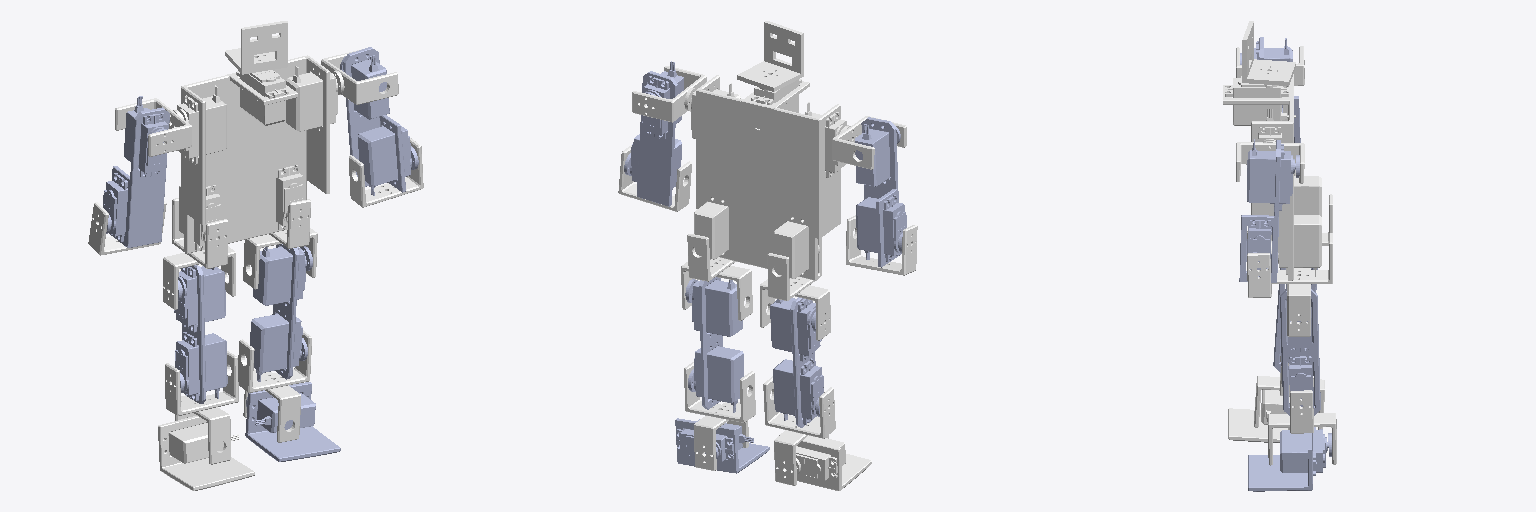
--- Facts derived from the render (not from the file) ---
3 views of the same robot in one strip: view 1: azimuth 30°, elevation 25°; view 2: azimuth 150°, elevation 25°; view 3: azimuth 270°, elevation 25° (orthographic).
Model test_robot_urdf with 16 links and 15 joints (15 revolute), rooted at base_link, posed all joints at 0.
Visible links, largest first — view 1: base_link, RHumerus, LFemur, RFemur, LHumerus, RFoot, LFoot, RTibia, RLeg, LTibia, LLeg, face (+4 smaller); view 2: base_link, LFemur, RHumerus, RFemur, LHumerus, LTibia, RTibia, RFoot, RLeg, face, LFoot, LLeg (+4 smaller); view 3: base_link, LHumerus, LFoot, LFemur, LLeg, LTibia, RFoot, face, LForearm, LShoulder, RHumerus, RTibia (+1 smaller).
Link boxes in pixels (x1,y1,x2,y2): base_link: (173, 55, 344, 253); RHumerus: (103, 96, 169, 247); LFemur: (250, 244, 312, 381); RFemur: (174, 265, 227, 403); LHumerus: (340, 47, 418, 195); RFoot: (158, 416, 254, 490); LFoot: (245, 382, 340, 461); RTibia: (165, 351, 238, 464); RLeg: (163, 198, 235, 309); LTibia: (238, 330, 311, 442); LLeg: (243, 199, 317, 289); face: (225, 21, 287, 74); base_link: (684, 75, 850, 280); LFemur: (685, 277, 743, 412); RHumerus: (855, 117, 906, 267); RFemur: (770, 297, 823, 427); LHumerus: (624, 61, 683, 206); LTibia: (684, 362, 755, 470); RTibia: (763, 376, 835, 485); RFoot: (780, 433, 871, 490); RLeg: (760, 238, 830, 340); face: (737, 21, 803, 91); LFoot: (675, 418, 769, 473); LLeg: (681, 234, 752, 320); base_link: (1223, 74, 1321, 280); LHumerus: (1239, 139, 1299, 282); LFoot: (1248, 427, 1331, 491); LFemur: (1280, 289, 1320, 415); LLeg: (1271, 233, 1332, 336); LTibia: (1268, 378, 1336, 465); RFoot: (1228, 390, 1289, 442); face: (1242, 21, 1295, 85); LForearm: (1247, 231, 1271, 297); LShoulder: (1236, 142, 1304, 183); RHumerus: (1240, 37, 1300, 142); RTibia: (1254, 356, 1324, 429).
Bounding box of the posed robot: 0.2903 × 0.0967 × 0.4005 m (x, y, z).
16 mesh visuals loaded from 16 distinct referenced files (16 binary STL).

The robot description file, URDF, robot "test_robot_urdf":
<?xml version="1.0" encoding="utf-8" ?>
<!-- This URDF was automatically created by SolidWorks to URDF Exporter! Originally created by Stephen Brawner ([email redacted]) 
     Commit Version: 1.6.0-4-g7f85cfe  Build Version: 1.6.7995.38578
     For more information, please see http://wiki.ros.org/sw_urdf_exporter -->
<robot name="test_robot_urdf">
    <!-- <link name="world"/> 
    <joint name="base_joint" type="fixed">
      <parent link="world"/>
      <child link="base_link"/>
      <origin rpy="0 0 0" xyz="0.0 0.0 0.17"/>
  </joint>-->
    <link name="base_link">
        <inertial>
            <origin xyz="0.025554 -0.085 0" rpy="0 0 0" />
            <mass value="0.24982" />
            <inertia ixx="0.0001974" ixy="-1.6155E-07" ixz="-3.8594E-08" iyy="0.00017956" iyz="-7.4527E-06" izz="0.00032713" />
        </inertial>
        <visual>
            <origin xyz="0 0 0" rpy="0 0 0" />
            <geometry>
                <mesh filename="package://test_robot_urdf/meshes/base_link.STL" />
            </geometry>
            <material name="">
                <color rgba="1 1 1 1" />
            </material>
        </visual>
        <collision>
            <origin xyz="0 0 0" rpy="0 0 0" />
            <geometry>
                <mesh filename="package://test_robot_urdf/meshes/base_link.STL" />
            </geometry>
        </collision>
    </link>
    <link name="RShoulder">
        <inertial>
            <origin xyz="0.012477 0.0006161 -2.7756E-17" rpy="0 0 0" />
            <mass value="0.0097066" />
            <inertia ixx="5.4145E-06" ixy="-8.0868E-08" ixz="-2.1383E-22" iyy="1.8341E-06" iyz="-2.9845E-21" izz="6.6057E-06" />
        </inertial>
        <visual>
            <origin xyz="0 0 0" rpy="0 0 0" />
            <geometry>
                <mesh filename="package://test_robot_urdf/meshes/RShoulder.STL" />
            </geometry>
            <material name="">
                <color rgba="1 1 1 1" />
            </material>
        </visual>
        <collision>
            <origin xyz="0 0 0" rpy="0 0 0" />
            <geometry>
                <mesh filename="package://test_robot_urdf/meshes/RShoulder.STL" />
            </geometry>
        </collision>
    </link>
    <joint name="RShoulder_pitch" type="revolute">
        <origin xyz="-0.050786 -0.11873 0.095526" rpy="-0.0292 0 3.1416" />
        <parent link="base_link" />
        <child link="RShoulder" />
        <axis xyz="-1 0 0" />
        <limit lower="-3.142" upper="0" effort="0.3" velocity="3" />
    </joint>
    <link name="RHumerus">
        <inertial>
            <origin xyz="-0.042934 0.0021494 0.0038885" rpy="0 0 0" />
            <mass value="0.079003" />
            <inertia ixx="1.2241E-05" ixy="8.9775E-07" ixz="6.8935E-07" iyy="3.0897E-05" iyz="-6.311E-07" izz="3.0365E-05" />
        </inertial>
        <visual>
            <origin xyz="0 0 0" rpy="0 0 0" />
            <geometry>
                <mesh filename="package://test_robot_urdf/meshes/RHumerus.STL" />
            </geometry>
            <material name="">
                <color rgba="0.79216 0.81961 0.93333 1" />
            </material>
        </visual>
        <collision>
            <origin xyz="0 0 0" rpy="0 0 0" />
            <geometry>
                <mesh filename="package://test_robot_urdf/meshes/RHumerus.STL" />
            </geometry>
        </collision>
    </link>
    <joint name="RShoulder_roll" type="revolute">
        <origin xyz="0.026 0 0" rpy="0 -1.5173 -3.1416" />
        <parent link="RShoulder" />
        <child link="RHumerus" />
        <axis xyz="0 1 0" />
        <limit lower="0" upper="3.142" effort="0.3" velocity="3" />
    </joint>
    <link name="RForearm">
        <inertial>
            <origin xyz="-0.013523 0.0080161 1.3878E-17" rpy="0 0 0" />
            <mass value="0.0097066" />
            <inertia ixx="5.4145E-06" ixy="-8.0868E-08" ixz="-6.8821E-22" iyy="1.8341E-06" iyz="-1.6436E-21" izz="6.6057E-06" />
        </inertial>
        <visual>
            <origin xyz="0 0 0" rpy="0 0 0" />
            <geometry>
                <mesh filename="package://test_robot_urdf/meshes/RForearm.STL" />
            </geometry>
            <material name="">
                <color rgba="1 1 1 1" />
            </material>
        </visual>
        <collision>
            <origin xyz="0 0 0" rpy="0 0 0" />
            <geometry>
                <mesh filename="package://test_robot_urdf/meshes/RForearm.STL" />
            </geometry>
        </collision>
    </link>
    <joint name="RElbow_pitch" type="revolute">
        <origin xyz="-0.0805 0.0074 0" rpy="1.5708 0 -0.11963" />
        <parent link="RHumerus" />
        <child link="RForearm" />
        <axis xyz="0 -1 0" />
        <limit lower="-3.142" upper="0" effort="0.3" velocity="3" />
    </joint>
    <link name="face">
        <inertial>
            <origin xyz="-1.3878E-17 0.011149 0.0078728" rpy="0 0 0" />
            <mass value="0.01138" />
            <inertia ixx="3.562E-06" ixy="-1.9058E-21" ixz="4.2352E-22" iyy="3.3882E-06" iyz="-1.0545E-06" izz="3.3852E-06" />
        </inertial>
        <visual>
            <origin xyz="0 0 0" rpy="0 0 0" />
            <geometry>
                <mesh filename="package://test_robot_urdf/meshes/face.STL" />
            </geometry>
            <material name="">
                <color rgba="1 1 1 1" />
            </material>
        </visual>
        <collision>
            <origin xyz="0 0 0" rpy="0 0 0" />
            <geometry>
                <mesh filename="package://test_robot_urdf/meshes/face.STL" />
            </geometry>
        </collision>
    </link>
    <joint name="Neck_yaw" type="revolute">
        <origin xyz="0.025114 -0.11948 0.13268" rpy="1.5708 0 -0.15619" />
        <parent link="base_link" />
        <child link="face" />
        <axis xyz="0 -1 0" />
        <limit lower="-1.57" upper="1.57" effort="0.3" velocity="3" />
    </joint>
    <link name="RLeg">
        <inertial>
            <origin xyz="0.026 0.00030805 -0.029308" rpy="0 0 0" />
            <mass value="0.019413" />
            <inertia ixx="1.0829E-05" ixy="-8.0868E-08" ixz="-8.0868E-08" iyy="8.4399E-06" iyz="2.0532E-20" izz="8.4399E-06" />
        </inertial>
        <visual>
            <origin xyz="0 0 0" rpy="0 0 0" />
            <geometry>
                <mesh filename="package://test_robot_urdf/meshes/RLeg.STL" />
            </geometry>
            <material name="">
                <color rgba="1 1 1 1" />
            </material>
        </visual>
        <collision>
            <origin xyz="0 0 0" rpy="0 0 0" />
            <geometry>
                <mesh filename="package://test_robot_urdf/meshes/RLeg.STL" />
            </geometry>
        </collision>
    </link>
    <joint name="RHip_roll" type="revolute">
        <origin xyz="-0.012886 -0.065133 -0.014974" rpy="1.5708 1.5593 -3.1416" />
        <parent link="base_link" />
        <child link="RLeg" />
        <axis xyz="0 0 1" />
        <limit lower="-1.57" upper="1.57" effort="0.3" velocity="3" />
    </joint>
    <link name="RFemur">
        <inertial>
            <origin xyz="-0.040258 -0.0014239 4.9602E-07" rpy="0 0 0" />
            <mass value="0.07163" />
            <inertia ixx="1.0418E-05" ixy="1.048E-09" ixz="-3.3333E-10" iyy="2.1292E-05" iyz="8.3321E-14" izz="2.5799E-05" />
        </inertial>
        <visual>
            <origin xyz="0 0 0" rpy="0 0 0" />
            <geometry>
                <mesh filename="package://test_robot_urdf/meshes/RFemur.STL" />
            </geometry>
            <material name="">
                <color rgba="0.79216 0.81961 0.93333 1" />
            </material>
        </visual>
        <collision>
            <origin xyz="0 0 0" rpy="0 0 0" />
            <geometry>
                <mesh filename="package://test_robot_urdf/meshes/RFemur.STL" />
            </geometry>
        </collision>
    </link>
    <joint name="RHip_pitch" type="revolute">
        <origin xyz="0.052 0 -0.029" rpy="0 -0.06306 -3.1416" />
        <parent link="RLeg" />
        <child link="RFemur" />
        <axis xyz="0 1 0" />
        <limit lower="-1.57" upper="1.57" effort="0.3" velocity="3" />
    </joint>
    <link name="RTibia">
        <inertial>
            <origin xyz="0.026 0.00030805 -0.00030805" rpy="0 0 0" />
            <mass value="0.019413" />
            <inertia ixx="1.0829E-05" ixy="-8.0868E-08" ixz="-8.0868E-08" iyy="8.4399E-06" iyz="3.1126E-20" izz="8.4399E-06" />
        </inertial>
        <visual>
            <origin xyz="0 0 0" rpy="0 0 0" />
            <geometry>
                <mesh filename="package://test_robot_urdf/meshes/RTibia.STL" />
            </geometry>
            <material name="">
                <color rgba="1 1 1 1" />
            </material>
        </visual>
        <collision>
            <origin xyz="0 0 0" rpy="0 0 0" />
            <geometry>
                <mesh filename="package://test_robot_urdf/meshes/RTibia.STL" />
            </geometry>
        </collision>
    </link>
    <joint name="RKnee_pitch" type="revolute">
        <origin xyz="-0.0805 0 0" rpy="1.5708 0.0012554 3.1416" />
        <parent link="RFemur" />
        <child link="RTibia" />
        <axis xyz="0 0 1" />
        <limit lower="-1.57" upper="1.57" effort="0.3" velocity="3" />
    </joint>
    <link name="RFoot">
        <inertial>
            <origin xyz="-0.02 0 0.025" rpy="0 0 0" />
            <mass value="0.057003" />
            <inertia ixx="1.4126E-05" ixy="2.2875E-10" ixz="-1.3786E-09" iyy="2.1635E-05" iyz="2.0514E-06" izz="1.4608E-05" />
        </inertial>
        <visual>
            <origin xyz="-0.018 -0.023 0.05" rpy="0 0 0" />
            <geometry>
                <mesh filename="package://test_robot_urdf/meshes/RFoot.STL" />
            </geometry>
            <material name="">
                <color rgba="1 1 1 1" />
            </material>
        </visual>
        <collision>
            <origin xyz="-0.018 -0.023 0.05" rpy="0 0 0" />
            <geometry>
                <mesh filename="package://test_robot_urdf/meshes/RFoot.STL" />
            </geometry>
        </collision>
    </link>
    <joint name="RAnkle_roll" type="revolute">
        <origin xyz="0.051814 0.027316 0.0079945" rpy="-1.5708 -1.5466 -3.1416" />
        <parent link="RTibia" />
        <child link="RFoot" />
        <axis xyz="0 0 1" />
        <limit lower="-1.57" upper="1.57" effort="0.3" velocity="3" />
    </joint>
    <link name="LLeg">
        <inertial>
            <origin xyz="-0.026 0.029308 0.00030805" rpy="0 0 0" />
            <mass value="0.019413" />
            <inertia ixx="1.0829E-05" ixy="-8.0868E-08" ixz="8.0868E-08" iyy="8.4399E-06" iyz="-2.2077E-19" izz="8.4399E-06" />
        </inertial>
        <visual>
            <origin xyz="0 0 0" rpy="0 0 0" />
            <geometry>
                <mesh filename="package://test_robot_urdf/meshes/LLeg.STL" />
            </geometry>
            <material name="">
                <color rgba="1 1 1 1" />
            </material>
        </visual>
        <collision>
            <origin xyz="0 0 0" rpy="0 0 0" />
            <geometry>
                <mesh filename="package://test_robot_urdf/meshes/LLeg.STL" />
            </geometry>
        </collision>
    </link>
    <joint name="LHip_roll" type="revolute">
        <origin xyz="0.064114 -0.065133 -0.014974" rpy="3.1416 -1.5267 0" />
        <parent link="base_link" />
        <child link="LLeg" />
        <axis xyz="0 -1 0" />
        <limit lower="-1.57" upper="1.57" effort="0.3" velocity="3" />
    </joint>
    <link name="LFemur">
        <inertial>
            <origin xyz="-0.040258 -0.0014244 -4.9602E-07" rpy="0 0 0" />
            <mass value="0.07163" />
            <inertia ixx="1.0418E-05" ixy="-1.048E-09" ixz="3.1543E-10" iyy="2.1292E-05" iyz="8.2662E-14" izz="2.5799E-05" />
        </inertial>
        <visual>
            <origin xyz="0 0 0" rpy="0 0 0" />
            <geometry>
                <mesh filename="package://test_robot_urdf/meshes/LFemur.STL" />
            </geometry>
            <material name="">
                <color rgba="0.79216 0.81961 0.93333 1" />
            </material>
        </visual>
        <collision>
            <origin xyz="0 0 0" rpy="0 0 0" />
            <geometry>
                <mesh filename="package://test_robot_urdf/meshes/LFemur.STL" />
            </geometry>
        </collision>
    </link>
    <joint name="LHip_pitch" type="revolute">
        <origin xyz="-0.052 0.029 0" rpy="-1.5708 0 0.025794" />
        <parent link="LLeg" />
        <child link="LFemur" />
        <axis xyz="0 1 0" />
        <limit lower="-1.57" upper="1.57" effort="0.3" velocity="3" />
    </joint>
    <link name="LTibia">
        <inertial>
            <origin xyz="-0.026 0.00030805 0.00030805" rpy="0 0 0" />
            <mass value="0.019413" />
            <inertia ixx="1.0829E-05" ixy="-8.0868E-08" ixz="8.0868E-08" iyy="8.4399E-06" iyz="7.8434E-20" izz="8.4399E-06" />
        </inertial>
        <visual>
            <origin xyz="0 0 0" rpy="0 0 0" />
            <geometry>
                <mesh filename="package://test_robot_urdf/meshes/LTibia.STL" />
            </geometry>
            <material name="">
                <color rgba="1 1 1 1" />
            </material>
        </visual>
        <collision>
            <origin xyz="0 0 0" rpy="0 0 0" />
            <geometry>
                <mesh filename="package://test_robot_urdf/meshes/LTibia.STL" />
            </geometry>
        </collision>
    </link>
    <joint name="LKnee_pitch" type="revolute">
        <origin xyz="-0.0805 0 0" rpy="3.1416 0.0099355 0" />
        <parent link="LFemur" />
        <child link="LTibia" />
        <axis xyz="0 -1 0" />
        <limit lower="-1.57" upper="1.57" effort="0.3" velocity="3" />
    </joint>
    <link name="LFoot">
        <inertial>
            <origin xyz="-0.0099432 0.0056689 -0.0077894" rpy="0 0 0" />
            <mass value="0.057003" />
            <inertia ixx="1.4126E-05" ixy="-1.1299E-09" ixz="-2.2731E-10" iyy="1.4608E-05" iyz="2.0509E-06" izz="2.1635E-05" />
        </inertial>
        <visual>
            <origin xyz="0 0 0" rpy="0 0 0" />
            <geometry>
                <mesh filename="package://test_robot_urdf/meshes/LFoot.STL" />
            </geometry>
            <material name="">
                <color rgba="0.79216 0.81961 0.93333 1" />
            </material>
        </visual>
        <collision>
            <origin xyz="0 0 0" rpy="0 0 0" />
            <geometry>
                <mesh filename="package://test_robot_urdf/meshes/LFoot.STL" />
            </geometry>
        </collision>
    </link>
    <joint name="LAnkle_roll" type="revolute">
        <origin xyz="-0.052 0 0" rpy="-1.5708 0 -1.5471" />
        <parent link="LTibia" />
        <child link="LFoot" />
        <axis xyz="0 1 0" />
        <limit lower="-1.57" upper="1.57" effort="0.3" velocity="3" />
    </joint>
    <link name="LShoulder">
        <inertial>
            <origin xyz="0.012477 0.0006161 0" rpy="0 0 0" />
            <mass value="0.0097066" />
            <inertia ixx="5.4145E-06" ixy="-8.0868E-08" ixz="2.9572E-22" iyy="1.8341E-06" iyz="7.8417E-22" izz="6.6057E-06" />
        </inertial>
        <visual>
            <origin xyz="0 0 0" rpy="0 0 0" />
            <geometry>
                <mesh filename="package://test_robot_urdf/meshes/LShoulder.STL" />
            </geometry>
            <material name="">
                <color rgba="1 1 1 1" />
            </material>
        </visual>
        <collision>
            <origin xyz="0 0 0" rpy="0 0 0" />
            <geometry>
                <mesh filename="package://test_robot_urdf/meshes/LShoulder.STL" />
            </geometry>
        </collision>
    </link>
    <joint name="LShoulder_pitch" type="revolute">
        <origin xyz="0.10201 -0.11873 0.095526" rpy="-0.026379 0 0" />
        <parent link="base_link" />
        <child link="LShoulder" />
        <axis xyz="-1 0 0" />
        <limit lower="0" upper="3.142" effort="0.3" velocity="3" />
    </joint>
    <link name="LHumerus">
        <inertial>
            <origin xyz="-0.042934 0.0021494 0.0038885" rpy="0 0 0" />
            <mass value="0.079003" />
            <inertia ixx="1.2241E-05" ixy="8.9775E-07" ixz="6.8935E-07" iyy="3.0897E-05" iyz="-6.311E-07" izz="3.0365E-05" />
        </inertial>
        <visual>
            <origin xyz="0 0 0" rpy="0 0 0" />
            <geometry>
                <mesh filename="package://test_robot_urdf/meshes/LHumerus.STL" />
            </geometry>
            <material name="">
                <color rgba="0.79216 0.81961 0.93333 1" />
            </material>
        </visual>
        <collision>
            <origin xyz="0 0 0" rpy="0 0 0" />
            <geometry>
                <mesh filename="package://test_robot_urdf/meshes/LHumerus.STL" />
            </geometry>
        </collision>
    </link>
    <joint name="LShoulder_roll" type="revolute">
        <origin xyz="0.026 0 0" rpy="0 -1.5034 3.1416" />
        <parent link="LShoulder" />
        <child link="LHumerus" />
        <axis xyz="0 1 0" />
        <limit lower="0" upper="3.142" effort="0.3" velocity="3" />
    </joint>
    <link name="LForearm">
        <inertial>
            <origin xyz="-0.013523 0.0080161 -2.7756E-17" rpy="0 0 0" />
            <mass value="0.0097066" />
            <inertia ixx="5.4145E-06" ixy="-8.0868E-08" ixz="-1.3367E-21" iyy="1.8341E-06" iyz="4.6301E-21" izz="6.6057E-06" />
        </inertial>
        <visual>
            <origin xyz="0 0 0" rpy="0 0 0" />
            <geometry>
                <mesh filename="package://test_robot_urdf/meshes/LForearm.STL" />
            </geometry>
            <material name="">
                <color rgba="1 1 1 1" />
            </material>
        </visual>
        <collision>
            <origin xyz="0 0 0" rpy="0 0 0" />
            <geometry>
                <mesh filename="package://test_robot_urdf/meshes/LForearm.STL" />
            </geometry>
        </collision>
    </link>
    <joint name="LElbow_pitch" type="revolute">
        <origin xyz="-0.0805 0.0074 0" rpy="1.5708 0 0.052842" />
        <parent link="LHumerus" />
        <child link="LForearm" />
        <axis xyz="0 -1 0" />
        <limit lower="0" upper="3.142" effort="0.3" velocity="3" />
    </joint>
    <!-- 
  Adding actuators for every joint
   Replace the “link_n” part with the name of child link of the joint and “joint_n” with the exact joint name for which you are writing this transmission tag. 
   The transmission and actuator names can be defined anything you want. 
   But the joint name must be the exact name of the joint.
  <transmission name="link_n_trans">
  <type>transmission_interface/SimpleTransmission</type>
  <joint name="joint_n">
  <hardwareInterface>hardware_interface/PositionJointInterface</hardwareInterface></joint>
  <actuator name="link_n_motor">
  <hardwareInterface>hardware_interface/PositionJointInterface</hardwareInterface> <mechanicalReduction>1</mechanicalReduction>
  </actuator>
  </transmission>
     -->
    <transmission name="RShoulder_trans">
        <type>transmission_interface/SimpleTransmission</type>
        <joint name="RShoulder_pitch">
            <hardwareInterface>hardware_interface/PositionJointInterface</hardwareInterface>
        </joint>
        <actuator name="RShoulder_pitch_motor">
            <hardwareInterface>hardware_interface/PositionJointInterface</hardwareInterface>
            <mechanicalReduction>1</mechanicalReduction>
        </actuator>
    </transmission>
    <transmission name="RHumerus_trans">
        <type>transmission_interface/SimpleTransmission</type>
        <joint name="RShoulder_roll">
            <hardwareInterface>hardware_interface/PositionJointInterface</hardwareInterface>
        </joint>
        <actuator name="RShoulder_roll_motor">
            <hardwareInterface>hardware_interface/PositionJointInterface</hardwareInterface>
            <mechanicalReduction>1</mechanicalReduction>
        </actuator>
    </transmission>
    <transmission name="RForearm_trans">
        <type>transmission_interface/SimpleTransmission</type>
        <joint name="RElbow_pitch">
            <hardwareInterface>hardware_interface/PositionJointInterface</hardwareInterface>
        </joint>
        <actuator name="RElbow_pitch_motor">
            <hardwareInterface>hardware_interface/PositionJointInterface</hardwareInterface>
            <mechanicalReduction>1</mechanicalReduction>
        </actuator>
    </transmission>
    <transmission name="face_trans">
        <type>transmission_interface/SimpleTransmission</type>
        <joint name="Neck_yaw">
            <hardwareInterface>hardware_interface/PositionJointInterface</hardwareInterface>
        </joint>
        <actuator name="Neck_yaw_motor">
            <hardwareInterface>hardware_interface/PositionJointInterface</hardwareInterface>
            <mechanicalReduction>1</mechanicalReduction>
        </actuator>
    </transmission>
    <transmission name="RLeg_trans">
        <type>transmission_interface/SimpleTransmission</type>
        <joint name="RHip_roll">
            <hardwareInterface>hardware_interface/PositionJointInterface</hardwareInterface>
        </joint>
        <actuator name="RHip_roll_motor">
            <hardwareInterface>hardware_interface/PositionJointInterface</hardwareInterface>
            <mechanicalReduction>1</mechanicalReduction>
        </actuator>
    </transmission>
    <transmission name="RFemur_trans">
        <type>transmission_interface/SimpleTransmission</type>
        <joint name="RHip_pitch">
            <hardwareInterface>hardware_interface/PositionJointInterface</hardwareInterface>
        </joint>
        <actuator name="RHip_pitch_motor">
            <hardwareInterface>hardware_interface/PositionJointInterface</hardwareInterface>
            <mechanicalReduction>1</mechanicalReduction>
        </actuator>
    </transmission>
    <transmission name="RTibia_trans">
        <type>transmission_interface/SimpleTransmission</type>
        <joint name="RKnee_pitch">
            <hardwareInterface>hardware_interface/PositionJointInterface</hardwareInterface>
        </joint>
        <actuator name="RKnee_pitch_motor">
            <hardwareInterface>hardware_interface/PositionJointInterface</hardwareInterface>
            <mechanicalReduction>1</mechanicalReduction>
        </actuator>
    </transmission>
    <transmission name="RFoot_trans">
        <type>transmission_interface/SimpleTransmission</type>
        <joint name="RAnkle_roll">
            <hardwareInterface>hardware_interface/PositionJointInterface</hardwareInterface>
        </joint>
        <actuator name="RAnkle_roll_motor">
            <hardwareInterface>hardware_interface/PositionJointInterface</hardwareInterface>
            <mechanicalReduction>1</mechanicalReduction>
        </actuator>
    </transmission>
    <transmission name="LLeg_trans">
        <type>transmission_interface/SimpleTransmission</type>
        <joint name="LHip_roll">
            <hardwareInterface>hardware_interface/PositionJointInterface</hardwareInterface>
        </joint>
        <actuator name="LHip_roll_motor">
            <hardwareInterface>hardware_interface/PositionJointInterface</hardwareInterface>
            <mechanicalReduction>1</mechanicalReduction>
        </actuator>
    </transmission>
    <transmission name="LFemur_trans">
        <type>transmission_interface/SimpleTransmission</type>
        <joint name="LHip_pitch">
            <hardwareInterface>hardware_interface/PositionJointInterface</hardwareInterface>
        </joint>
        <actuator name="LHip_pitch_motor">
            <hardwareInterface>hardware_interface/PositionJointInterface</hardwareInterface>
            <mechanicalReduction>1</mechanicalReduction>
        </actuator>
    </transmission>
    <transmission name="LTibia_trans">
        <type>transmission_interface/SimpleTransmission</type>
        <joint name="LKnee_pitch">
            <hardwareInterface>hardware_interface/PositionJointInterface</hardwareInterface>
        </joint>
        <actuator name="LKnee_pitch_motor">
            <hardwareInterface>hardware_interface/PositionJointInterface</hardwareInterface>
            <mechanicalReduction>1</mechanicalReduction>
        </actuator>
    </transmission>
    <transmission name="LFoot_trans">
        <type>transmission_interface/SimpleTransmission</type>
        <joint name="LAnkle_roll">
            <hardwareInterface>hardware_interface/PositionJointInterface</hardwareInterface>
        </joint>
        <actuator name="LAnkle_roll_motor">
            <hardwareInterface>hardware_interface/PositionJointInterface</hardwareInterface>
            <mechanicalReduction>1</mechanicalReduction>
        </actuator>
    </transmission>
    <transmission name="LShoulder_trans">
        <type>transmission_interface/SimpleTransmission</type>
        <joint name="LShoulder_pitch">
            <hardwareInterface>hardware_interface/PositionJointInterface</hardwareInterface>
        </joint>
        <actuator name="LShoulder_pitch_motor">
            <hardwareInterface>hardware_interface/PositionJointInterface</hardwareInterface>
            <mechanicalReduction>1</mechanicalReduction>
        </actuator>
    </transmission>
    <transmission name="LHumerus_trans">
        <type>transmission_interface/SimpleTransmission</type>
        <joint name="LShoulder_roll">
            <hardwareInterface>hardware_interface/PositionJointInterface</hardwareInterface>
        </joint>
        <actuator name="LShoulder_roll_motor">
            <hardwareInterface>hardware_interface/PositionJointInterface</hardwareInterface>
            <mechanicalReduction>1</mechanicalReduction>
        </actuator>
    </transmission>
    <transmission name="LForearm_trans">
        <type>transmission_interface/SimpleTransmission</type>
        <joint name="LElbow_pitch">
            <hardwareInterface>hardware_interface/PositionJointInterface</hardwareInterface>
        </joint>
        <actuator name="LElbow_pitch_motor">
            <hardwareInterface>hardware_interface/PositionJointInterface</hardwareInterface>
            <mechanicalReduction>1</mechanicalReduction>
        </actuator>
    </transmission>
    <!--Add Gazebo Controller
After the last transmission tag, add a gazebo controller tag as given below
 <gazebo>
 <plugin name="control"
filename="libgazebo_ros_control.so">
<robotNamespace>/</robotNamespace>
</plugin>
 </gazebo>
-->
    <gazebo>
        <plugin name="control" filename="libgazebo_ros_control.so">
            <robotNamespace>/</robotNamespace>
        </plugin>
        <plugin name="gazebo_ros_control" filename="libgazebo_ros_control.so">
            <robotNamespace>/</robotNamespace>
        </plugin>
    </gazebo>
    <!-- Add Self Collision tags.
Similar to transmission tags, create the self-collision tags for each movable link in URDF. 
<gazebo reference="link_n">
 <selfCollide>true</selfCollide>
 </gazebo>

 Note: Change “link_n” with the name of the link.

-->
    <gazebo reference="RShoulder">
        <selfCollide>true</selfCollide>
    </gazebo>
    <gazebo reference="RHumerus">
        <selfCollide>true</selfCollide>
    </gazebo>
    <gazebo reference="RForearm">
        <selfCollide>true</selfCollide>
    </gazebo>
    <gazebo reference="face">
        <selfCollide>true</selfCollide>
    </gazebo>
    <gazebo reference="RLeg">
        <selfCollide>true</selfCollide>
    </gazebo>
    <gazebo reference="RFemur">
        <selfCollide>true</selfCollide>
    </gazebo>
    <gazebo reference="RTibia">
        <selfCollide>true</selfCollide>
    </gazebo>
    <gazebo reference="RFoot">
        <selfCollide>true</selfCollide>
    </gazebo>
    <gazebo reference="LLeg">
        <selfCollide>true</selfCollide>
    </gazebo>
    <gazebo reference="LFemur">
        <selfCollide>true</selfCollide>
    </gazebo>
    <gazebo reference="LTibia">
        <selfCollide>true</selfCollide>
    </gazebo>
    <gazebo reference="LFoot">
        <selfCollide>true</selfCollide>
    </gazebo>
    <gazebo reference="LShoulder">
        <selfCollide>true</selfCollide>
    </gazebo>
    <gazebo reference="LHumerus">
        <selfCollide>true</selfCollide>
    </gazebo>
    <gazebo reference="LForearm">
        <selfCollide>true</selfCollide>
    </gazebo>
</robot>
